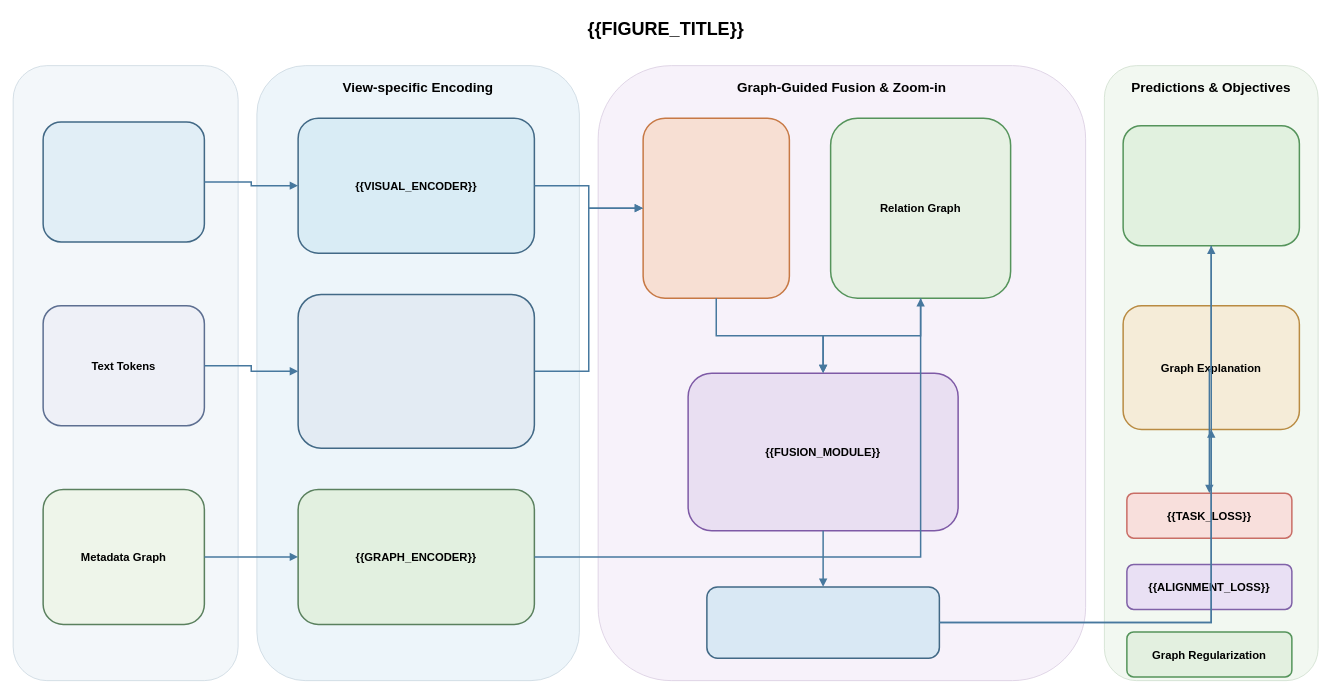
The diagram is 1331 pixels wide and 694 high, and some of its shapes have lost their labels. Each missing label, with the box of its shape:
Cross-modal Attention: (642, 117, 790, 298)
Image / Document: (42, 121, 205, 242)
Joint Representation: (706, 586, 940, 658)
Multimodal Inputs: (12, 65, 238, 681)
{{LANGUAGE_ENCODER}}: (297, 293, 535, 448)
{{PREDICTION_HEAD}}: (1122, 124, 1300, 246)
